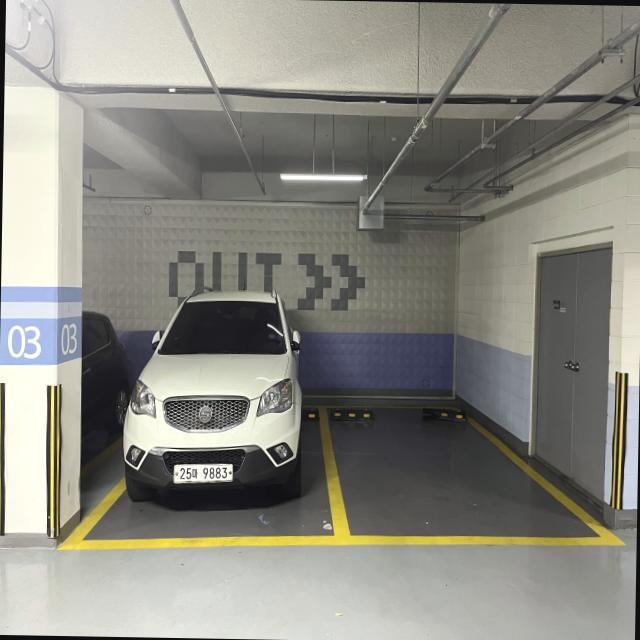car: (115, 292, 308, 528)
free: (316, 398, 616, 544)
